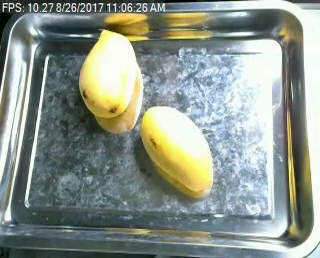Mango: (136, 103, 217, 192), (78, 26, 139, 120)
